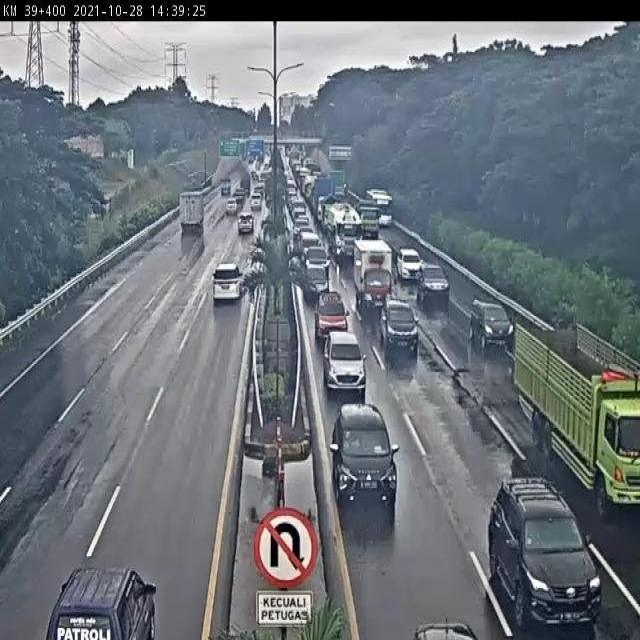big truck: (497, 316, 640, 509), (325, 202, 365, 262)
car: (486, 486, 600, 630), (10, 546, 178, 640), (326, 396, 399, 512), (319, 331, 370, 396), (465, 289, 512, 351), (374, 292, 419, 352), (308, 284, 352, 339), (413, 256, 450, 308), (209, 259, 244, 309), (395, 243, 422, 281), (232, 210, 258, 242), (247, 192, 265, 216), (221, 199, 241, 217)
small truck: (343, 234, 397, 314), (173, 184, 209, 240)
